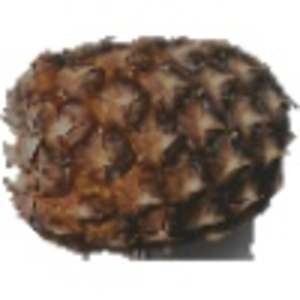abacaxi: (3, 27, 294, 254)
